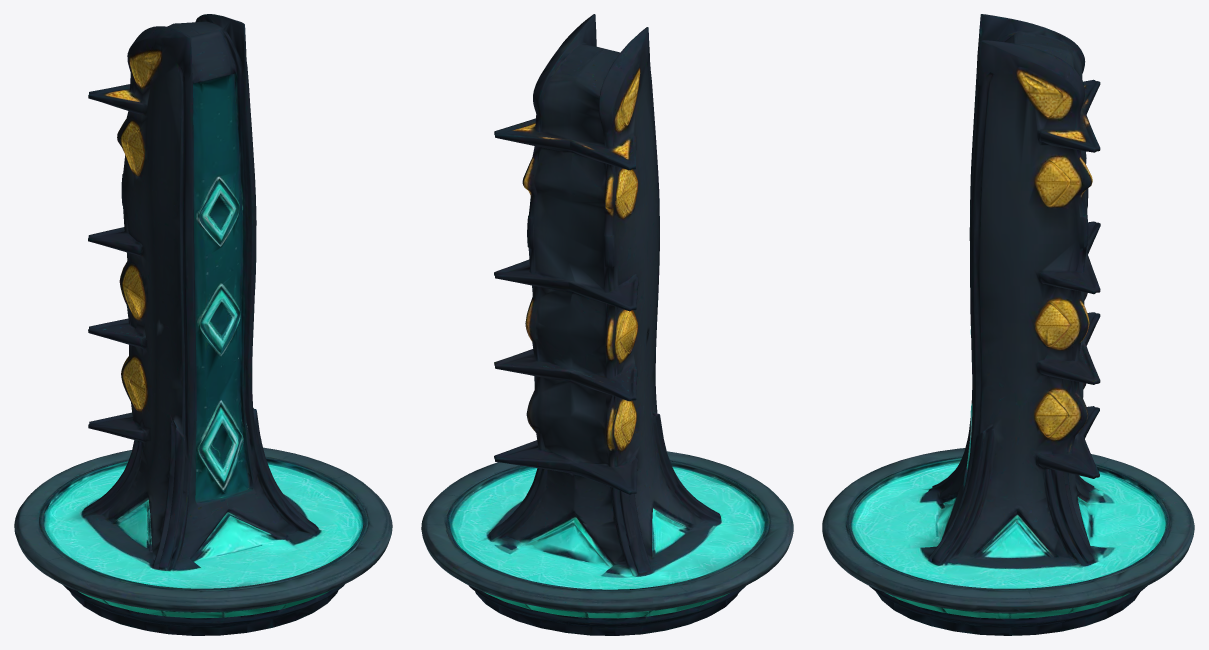
The model's file is hero-city-megatower.glb.
3 renders of one model, left to right at view 1: azimuth 30°, elevation 25°; view 2: azimuth 150°, elevation 25°; view 3: azimuth 270°, elevation 25°, orthographic.
Parts seen in each view (by area): view 1: node_0; view 2: node_0; view 3: node_0.
Part boxes in pixels (x1,y1,x2,y2): node_0: [14, 14, 392, 635]; node_0: [421, 14, 793, 635]; node_0: [822, 14, 1194, 635].
Bounding box in the file's own units: 0.6718 × 1.09 × 0.6697.
Materials: 1 (1 with a texture image).
